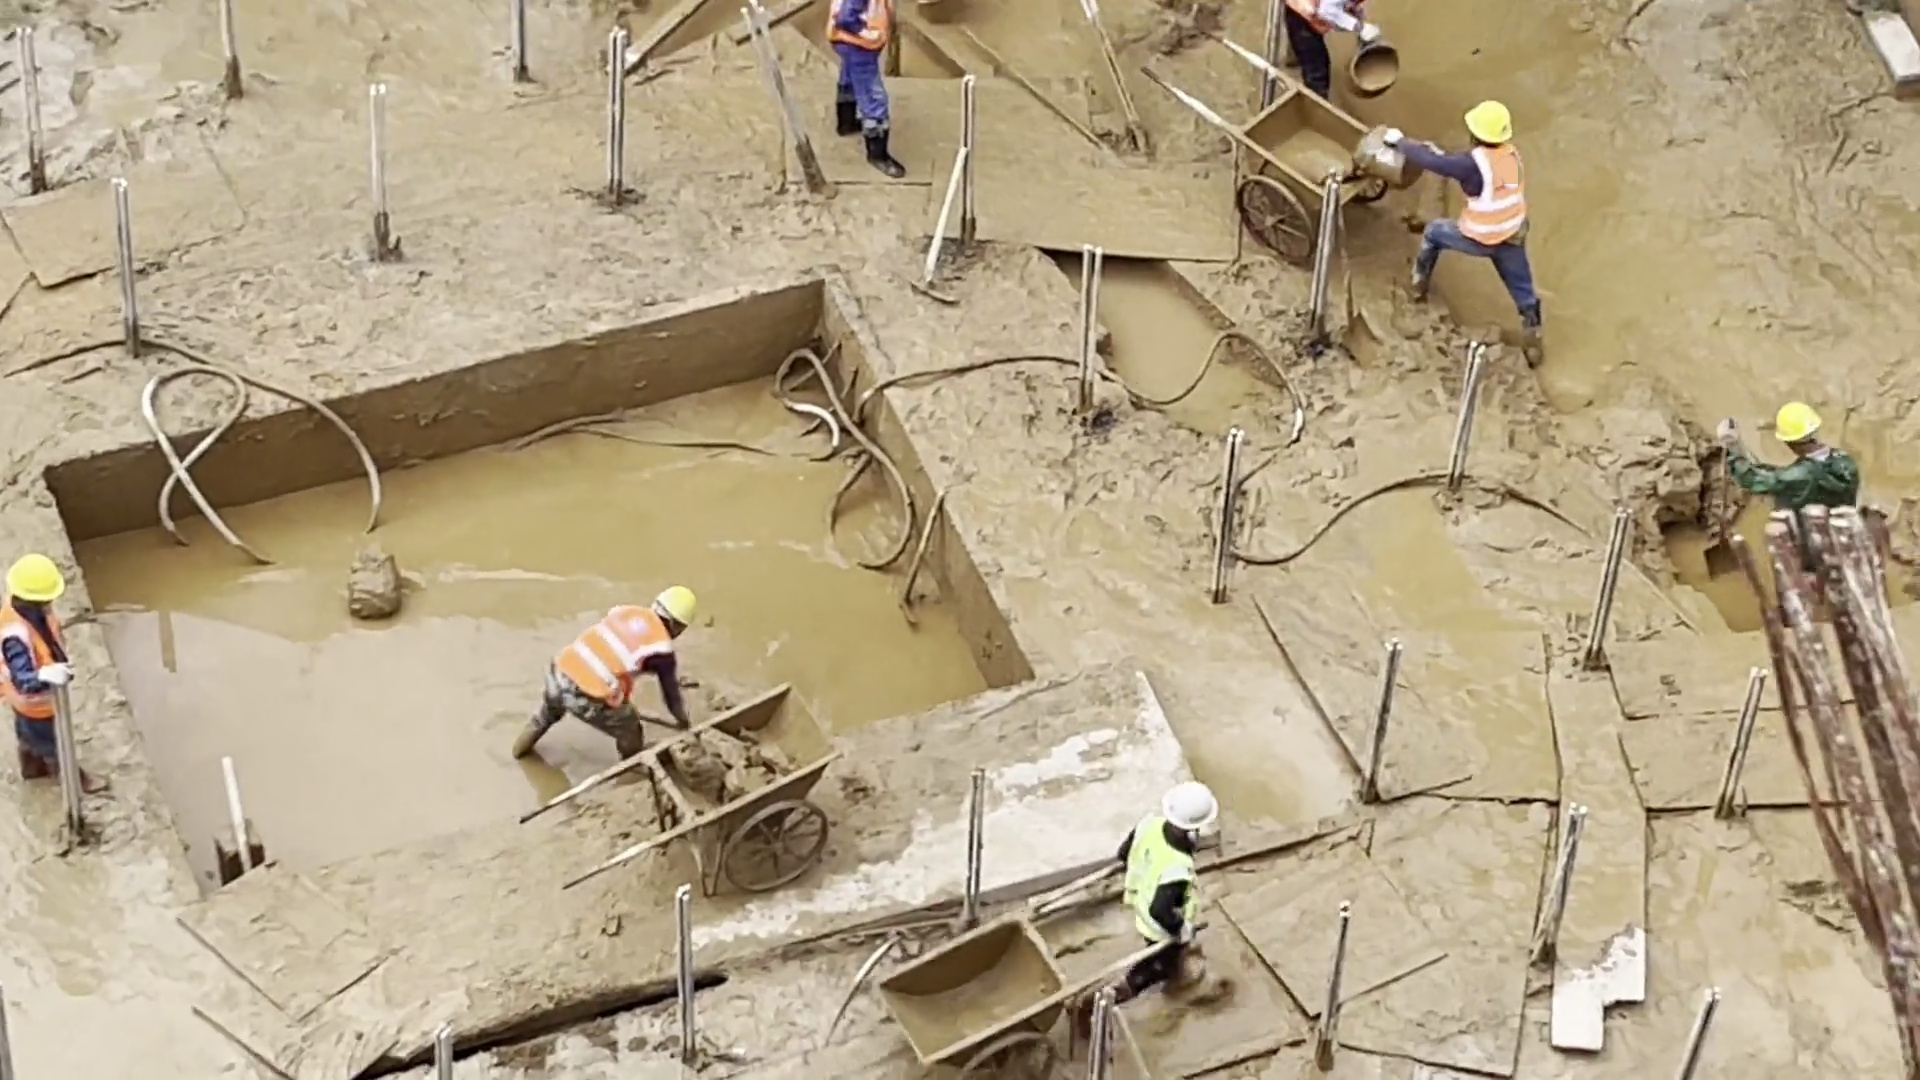handcart: (522, 676, 844, 890), (864, 863, 1162, 1070), (1142, 32, 1382, 263)
helmet: (1, 554, 64, 605), (1161, 776, 1216, 834), (1462, 99, 1515, 141), (1772, 401, 1822, 445), (655, 582, 698, 632)
person: (1377, 99, 1549, 359), (504, 583, 700, 763), (1, 552, 106, 805), (1109, 779, 1218, 1001), (1715, 403, 1869, 510), (825, 1, 906, 181), (1283, 1, 1378, 110)
vest: (553, 597, 675, 699), (1123, 812, 1203, 945), (1, 604, 76, 720), (1457, 141, 1528, 245)
